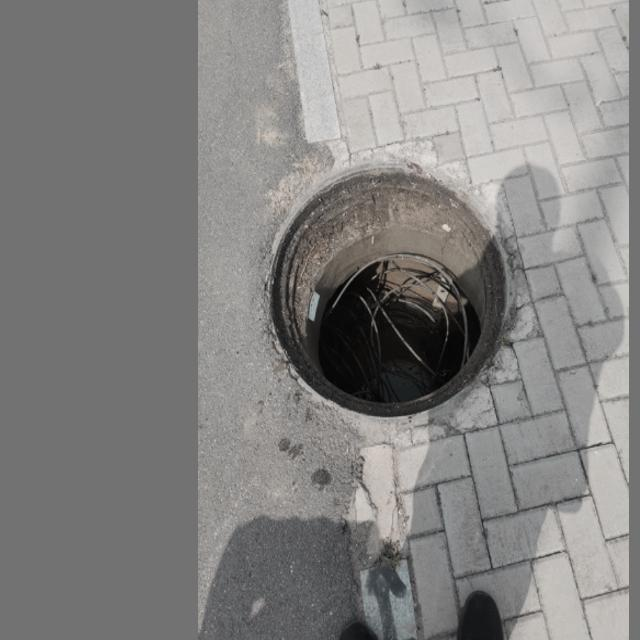lose: (262, 158, 514, 425)
